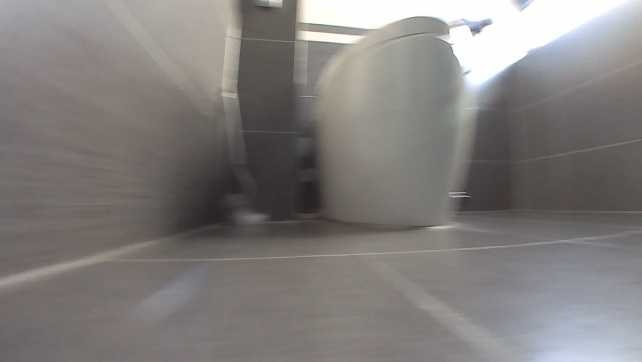toilet: (308, 12, 483, 234)
